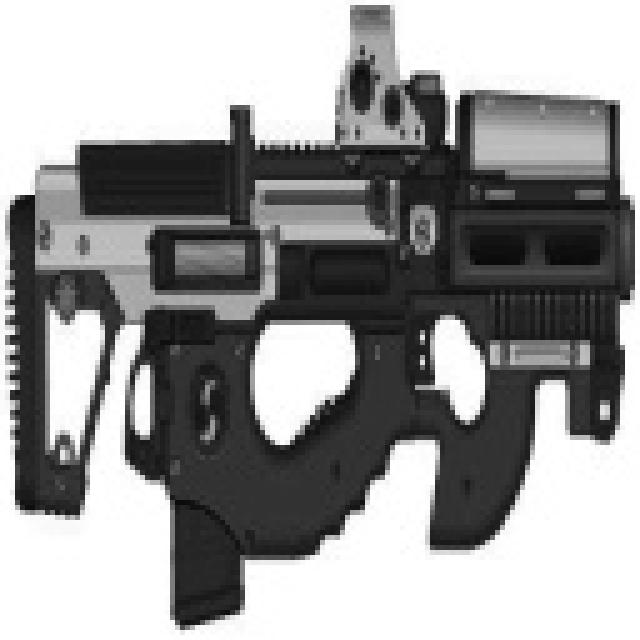Rifle: (0, 32, 640, 591), (0, 60, 90, 640)
